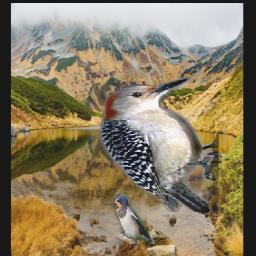Swallow: (113, 194, 155, 244)
Woodpecker: (101, 78, 220, 213)
